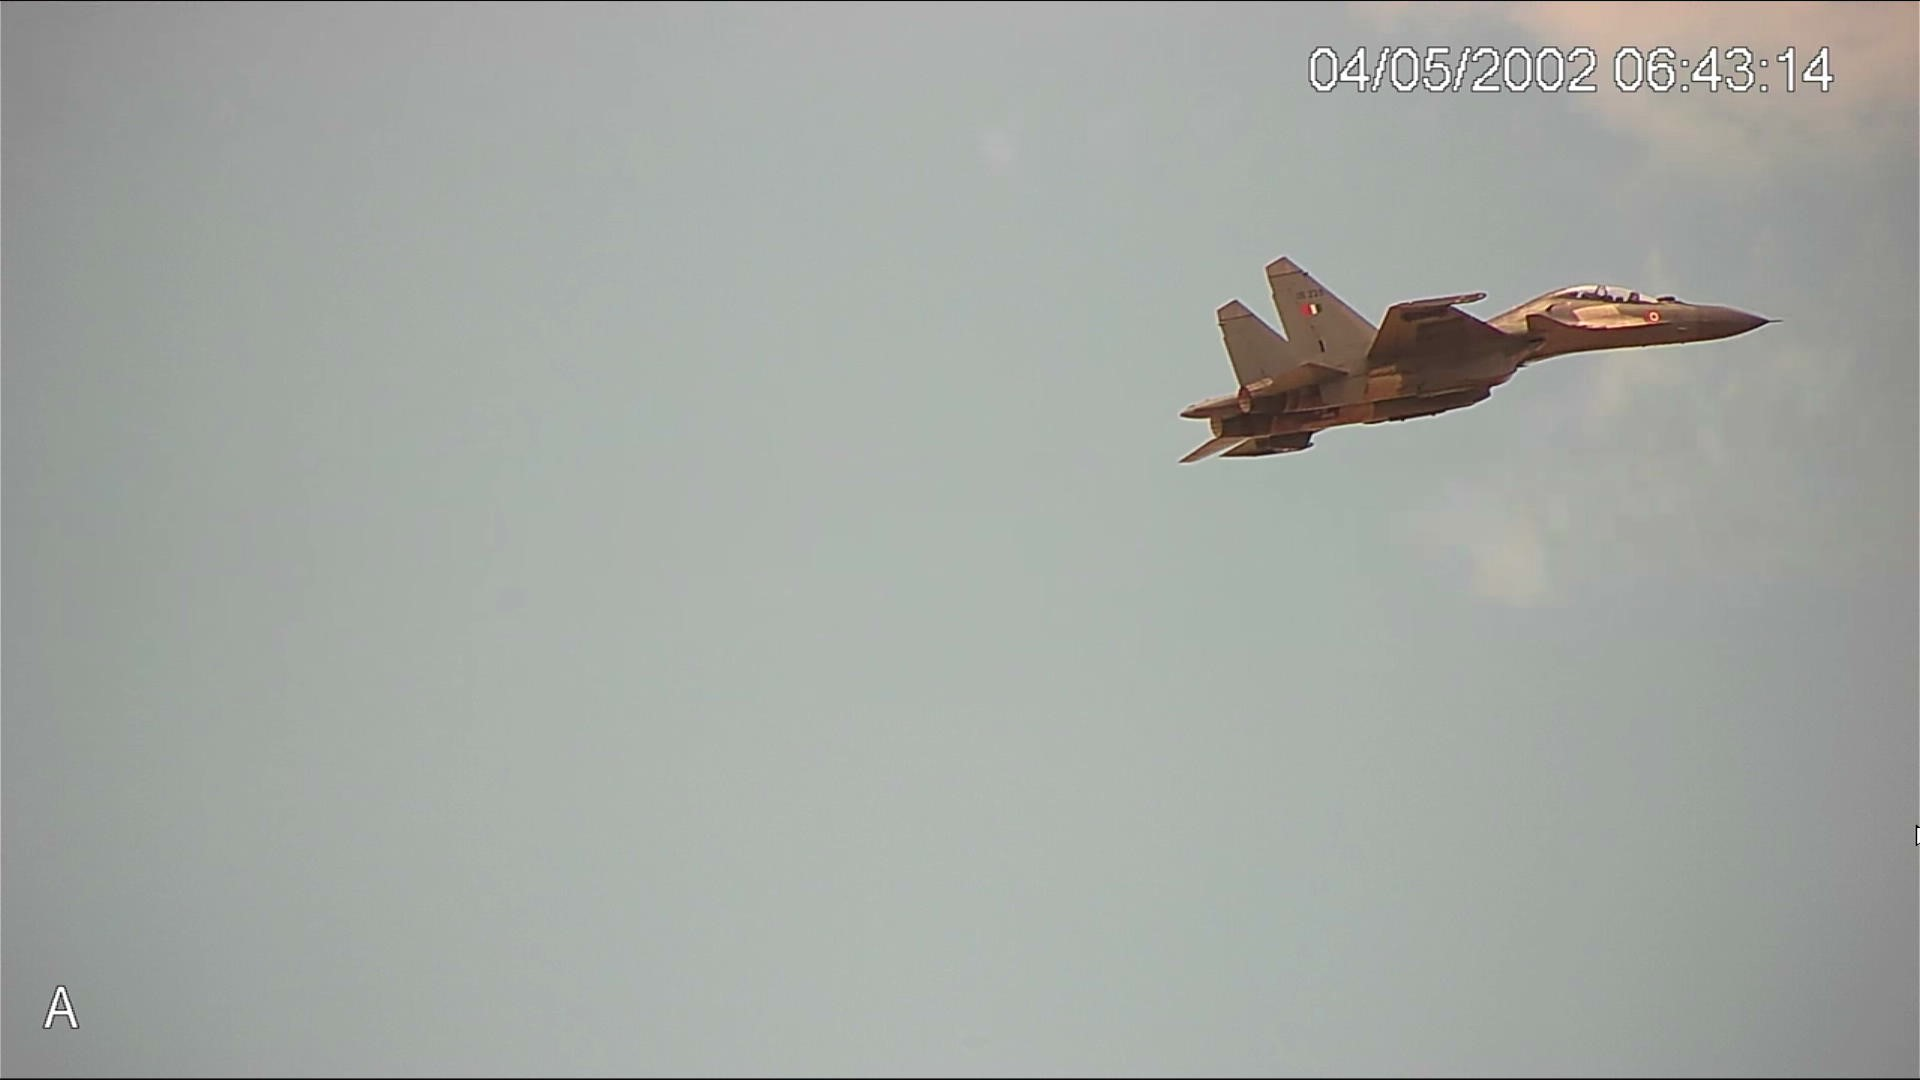SU_30: (1180, 251, 1789, 469)
